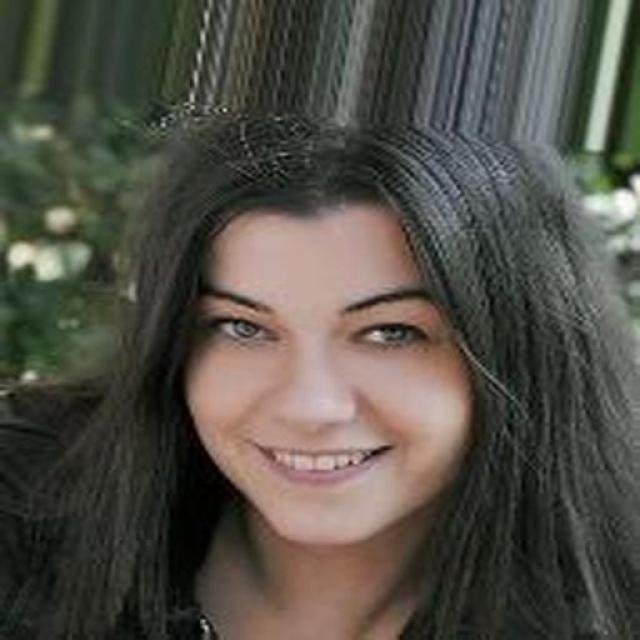bareface: (194, 251, 476, 528)
